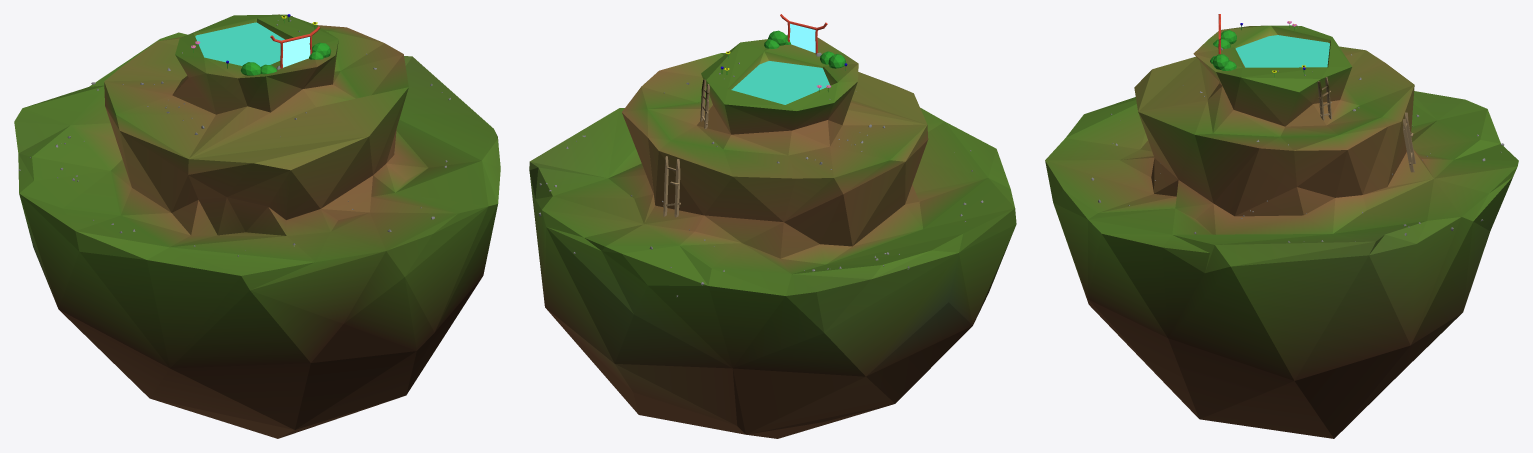
The picture shows the model from 3 angles, left to right: view 1: azimuth 30°, elevation 25°; view 2: azimuth 150°, elevation 25°; view 3: azimuth 270°, elevation 25°; orthographic projection. The views are drawn at different scales.
Parts seen in each view (by area): view 1: Island.001, Water.001, Magical Portal.001; view 2: Island.001, Water.001, Bottom Ladder.001, Magical Portal.001; view 3: Island.001, Water.001.
Boxes of the visible parts, box(x1,y1,x2,y2) form: Island.001: box(14, 14, 500, 438); Water.001: box(195, 22, 284, 66); Magical Portal.001: box(282, 37, 310, 67); Island.001: box(529, 37, 1016, 438); Water.001: box(731, 61, 830, 104); Bottom Ladder.001: box(663, 156, 680, 217); Magical Portal.001: box(789, 23, 815, 52); Island.001: box(1045, 25, 1518, 438); Water.001: box(1235, 35, 1329, 67).
Size of the model in its own units: 41.96 by 39.87 by 43.73.
